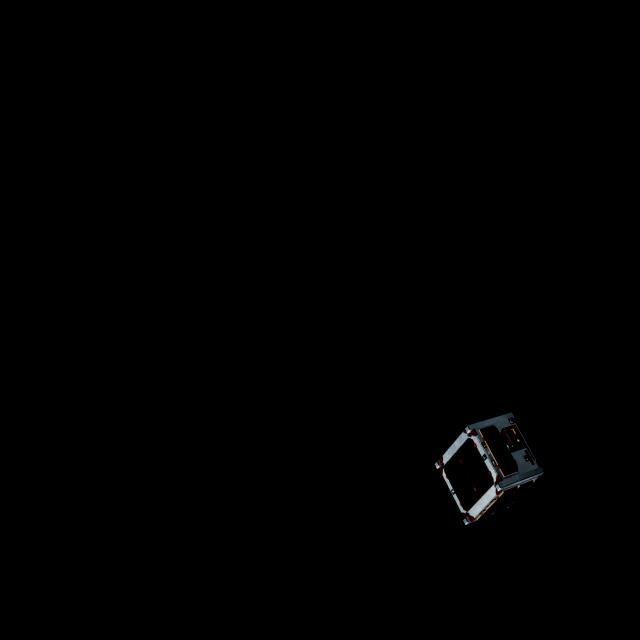medium_debris: (431, 409, 544, 522)
